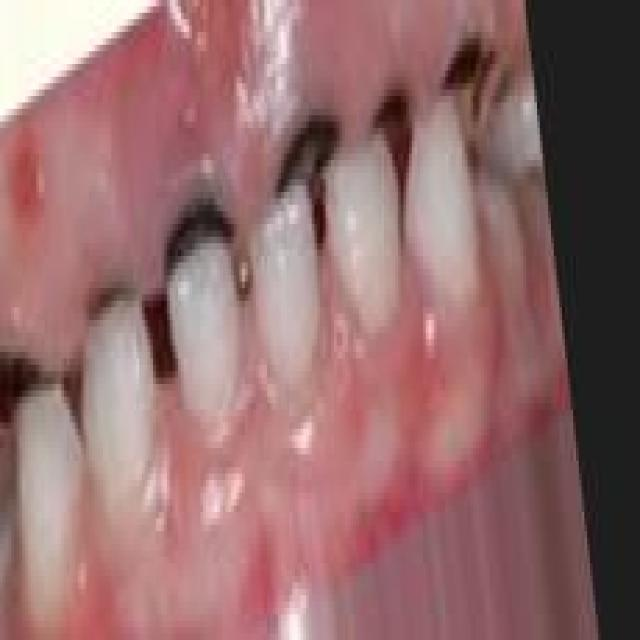caries: (153, 166, 243, 302), (275, 86, 347, 226), (435, 5, 503, 140), (0, 321, 69, 443), (359, 63, 422, 163)
